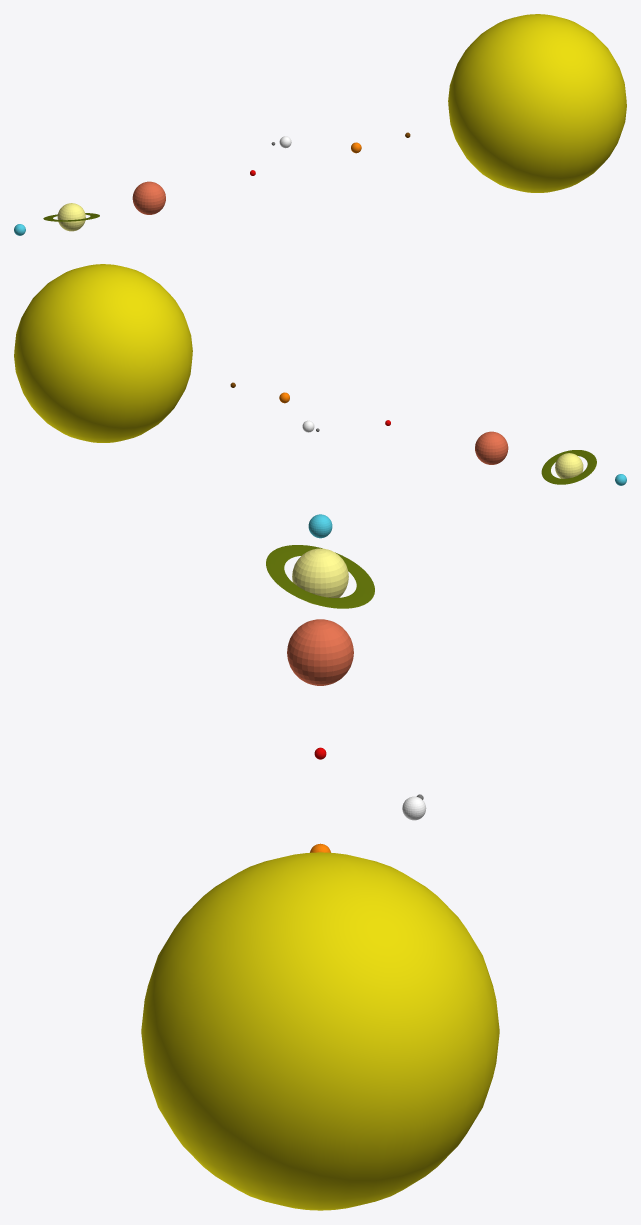
File: solsystem.glb
The picture shows the model from 3 angles, top to bottom: view 1: azimuth 30°, elevation 25°; view 2: azimuth 150°, elevation 25°; view 3: azimuth 270°, elevation 25°; orthographic projection. The views are drawn at different scales.
Parts seen in each view (by area): view 1: sol, jupiter, saturn; view 2: sol, jupiter, saturn_ring, saturn; view 3: sol, jupiter, saturn_ring, saturn.
Part boxes in pixels (left/top/right/bottom): sol: left=448, top=14, right=626, bottom=192; jupiter: left=132, top=181, right=165, bottom=214; saturn: left=57, top=203, right=85, bottom=231; sol: left=14, top=264, right=192, bottom=442; jupiter: left=475, top=431, right=508, bottom=464; saturn_ring: left=541, top=450, right=596, bottom=484; saturn: left=555, top=453, right=583, bottom=478; sol: left=141, top=852, right=499, bottom=1210; jupiter: left=287, top=619, right=353, bottom=685; saturn_ring: left=266, top=545, right=374, bottom=608; saturn: left=292, top=548, right=348, bottom=604.
Size of the model in its own units: 232 by 60 by 60.
